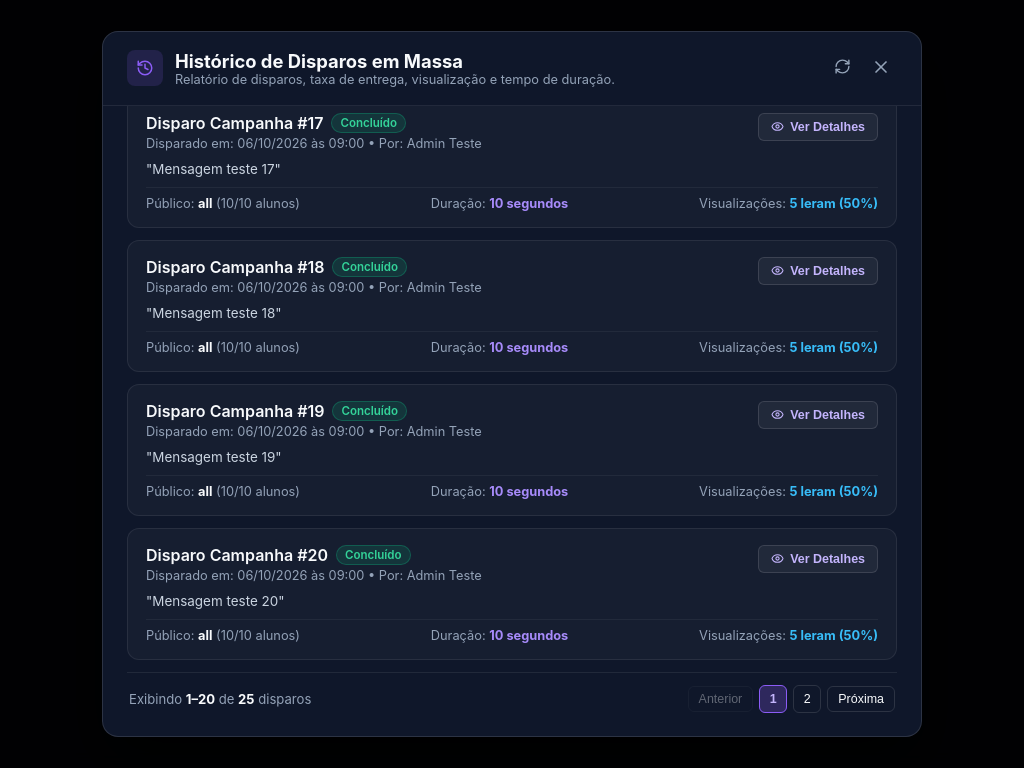
Test: ChatBroadcastHistoryModal Component › paginates broadcast campaigns displaying 20 per page with pagination bar and navigation
(page scrolled)
Expected: the element with test id "campaign-card-20" is shown, 127,528 -> 897,660
Expected: the element with test id "broadcast-history-pagination-bar" shows "Exibindo 1–20 de 25 disparos", 127,672 -> 897,717
Navega para a página 2
Step 1. Click the button with test id "broadcast-history-page-2-btn" → (807, 699), box 793,685 -> 821,713
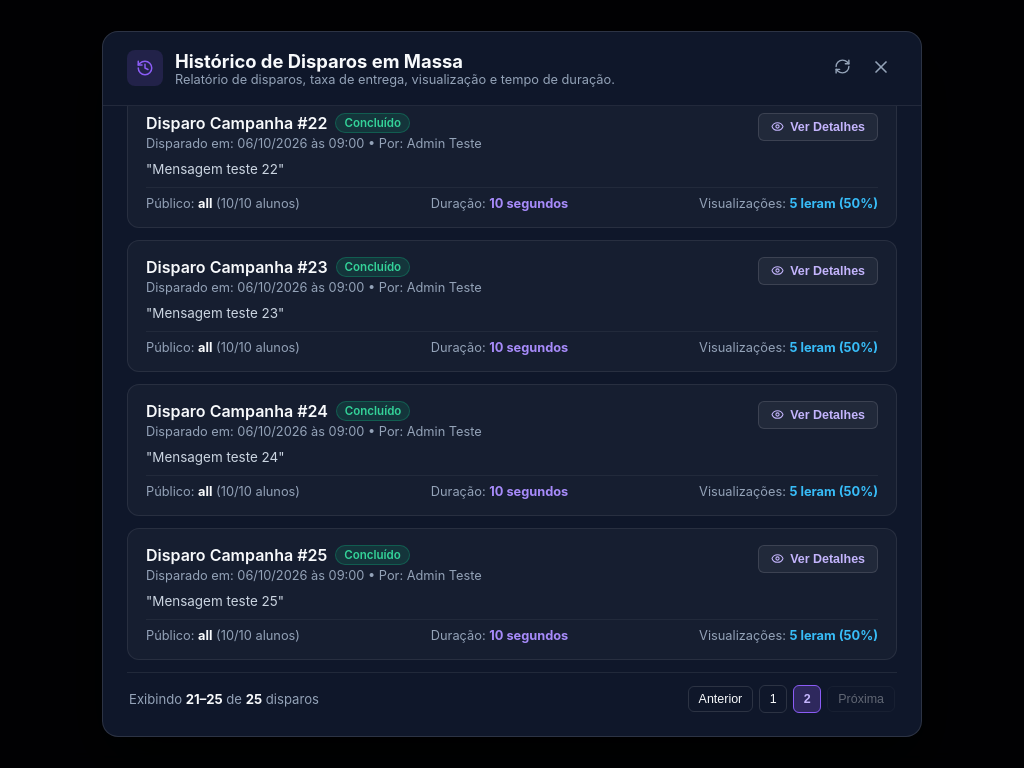
Expected: the element with test id "campaign-card-25" is shown, 127,528 -> 897,660
Expected: the element with test id "broadcast-history-pagination-bar" shows "Exibindo 21–25 de 25 disparos", 127,672 -> 897,717
